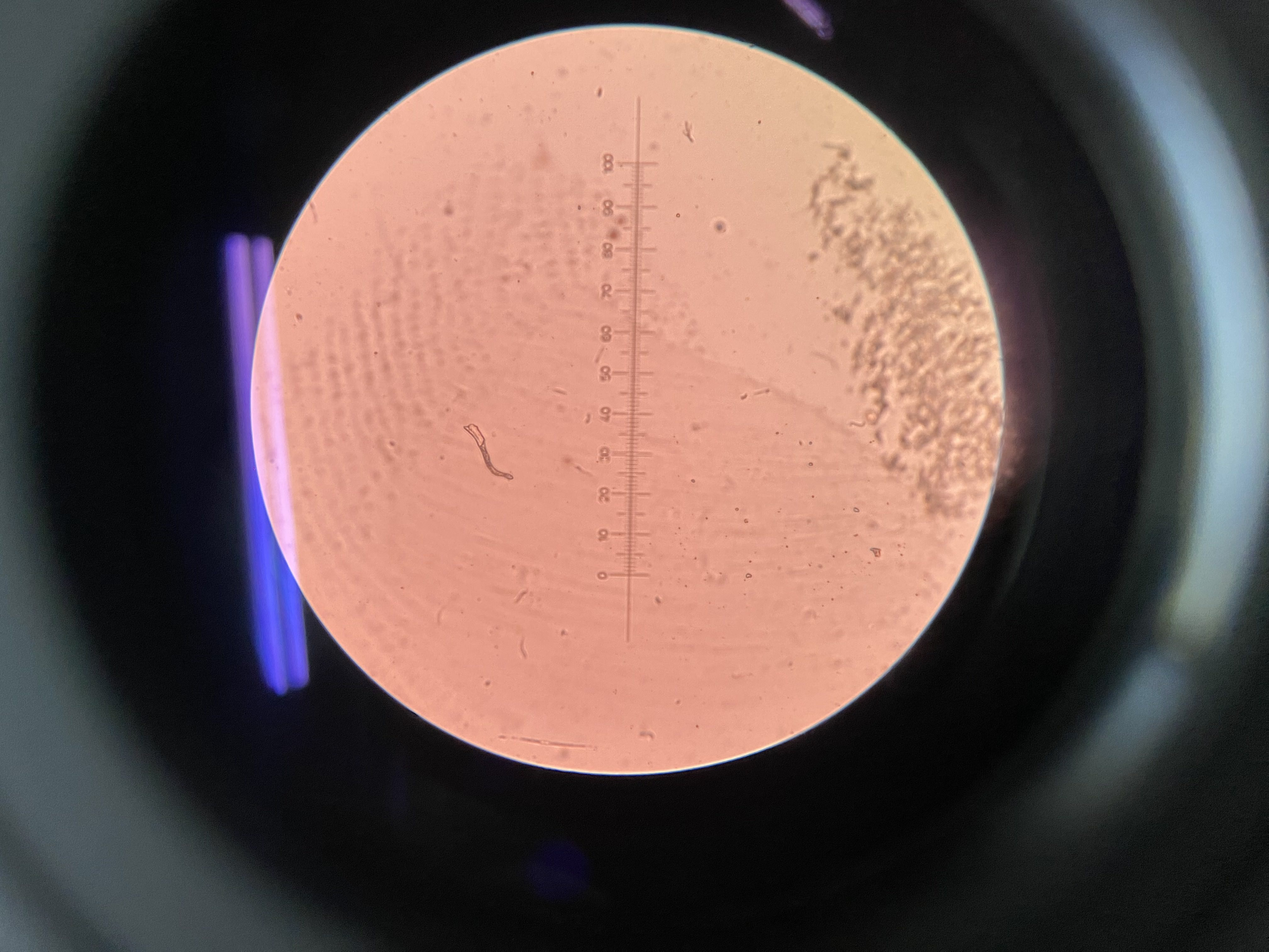not_microplastic: (799, 139, 1027, 518), (463, 421, 516, 487), (711, 213, 731, 235)
